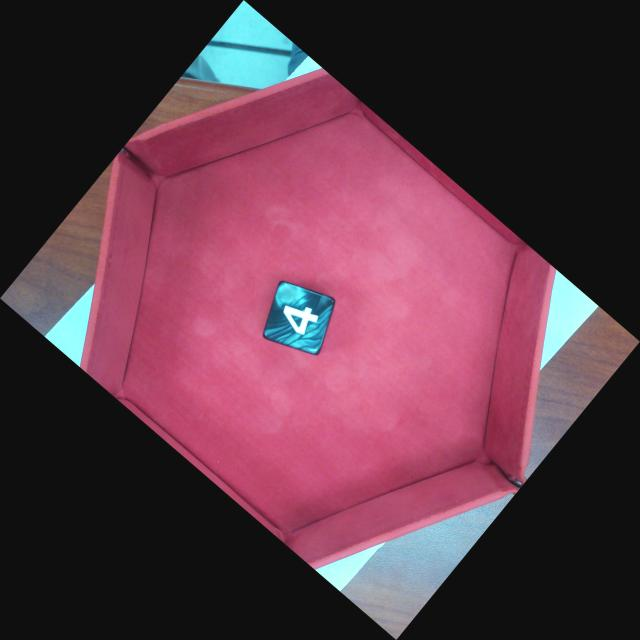dice: (265, 281, 334, 353)
